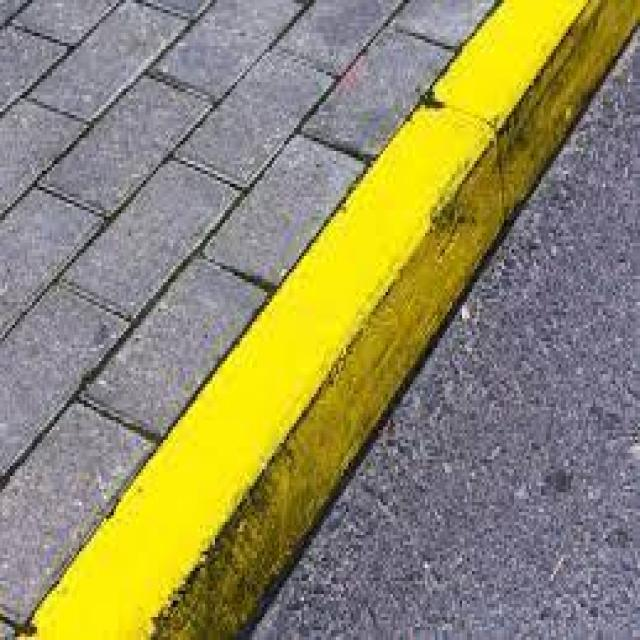curb: (22, 101, 511, 639), (425, 4, 640, 223)
